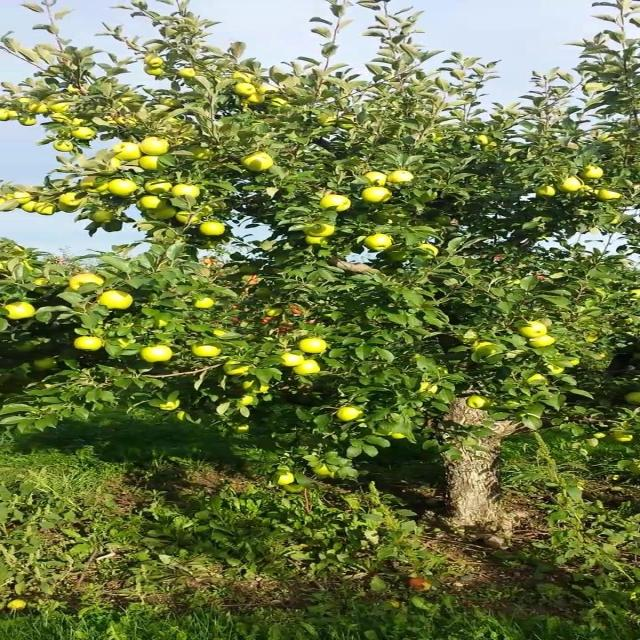apple: (241, 152, 277, 172), (99, 292, 135, 310), (70, 276, 107, 291), (319, 196, 352, 212), (362, 188, 393, 204), (113, 144, 142, 161), (6, 304, 36, 320), (141, 140, 171, 156), (141, 348, 172, 363), (518, 324, 548, 339), (113, 180, 139, 196), (84, 176, 107, 194), (191, 344, 220, 358), (369, 236, 393, 252), (227, 360, 251, 376), (362, 172, 389, 186), (305, 224, 336, 236), (148, 180, 171, 196), (141, 156, 164, 172), (596, 188, 624, 201), (148, 208, 178, 220), (177, 184, 199, 200), (298, 360, 320, 376), (561, 176, 583, 192), (77, 340, 105, 352), (340, 408, 364, 422), (248, 380, 270, 395), (305, 232, 332, 244), (468, 396, 492, 409), (305, 340, 327, 354), (476, 344, 500, 356), (141, 196, 165, 208), (390, 172, 414, 184), (419, 244, 441, 257), (205, 224, 228, 236), (532, 336, 555, 348), (92, 212, 114, 224), (35, 360, 57, 372), (582, 168, 604, 180), (284, 356, 306, 368), (234, 84, 256, 96), (191, 148, 213, 160), (611, 432, 633, 444), (177, 212, 199, 224), (77, 128, 98, 140), (13, 192, 34, 204), (234, 72, 256, 83), (547, 364, 567, 376), (340, 116, 356, 130), (106, 160, 123, 173), (305, 236, 329, 245), (262, 84, 276, 99), (319, 116, 338, 127), (540, 184, 556, 197), (163, 400, 180, 412), (390, 252, 407, 264), (20, 116, 36, 128), (13, 344, 37, 352), (177, 216, 201, 224), (525, 376, 548, 384), (419, 384, 439, 393), (148, 56, 164, 67), (35, 208, 57, 216), (284, 484, 306, 492), (276, 476, 295, 485), (198, 208, 215, 218), (63, 196, 84, 204), (269, 100, 290, 108), (184, 68, 199, 79), (241, 396, 256, 407), (49, 104, 69, 112), (163, 100, 183, 108), (340, 120, 356, 130), (319, 464, 332, 476), (625, 392, 638, 404), (6, 200, 20, 211), (106, 116, 123, 125), (56, 144, 75, 152), (461, 336, 480, 344), (35, 104, 50, 114), (248, 96, 263, 106), (70, 120, 91, 127), (476, 136, 492, 145), (198, 300, 215, 308), (20, 204, 37, 212), (148, 68, 165, 76), (63, 204, 80, 212), (483, 144, 500, 152), (120, 96, 139, 103), (127, 116, 140, 126), (390, 432, 405, 440), (56, 116, 71, 124), (568, 360, 583, 368), (106, 224, 121, 232), (156, 320, 171, 328), (141, 224, 156, 232), (6, 112, 20, 120), (596, 432, 610, 440), (596, 352, 610, 360), (35, 280, 50, 287), (611, 216, 624, 224), (433, 136, 446, 144), (177, 412, 187, 422), (20, 196, 34, 203), (234, 428, 249, 434), (120, 340, 130, 348), (212, 332, 228, 336), (589, 336, 597, 343), (632, 292, 639, 299)
